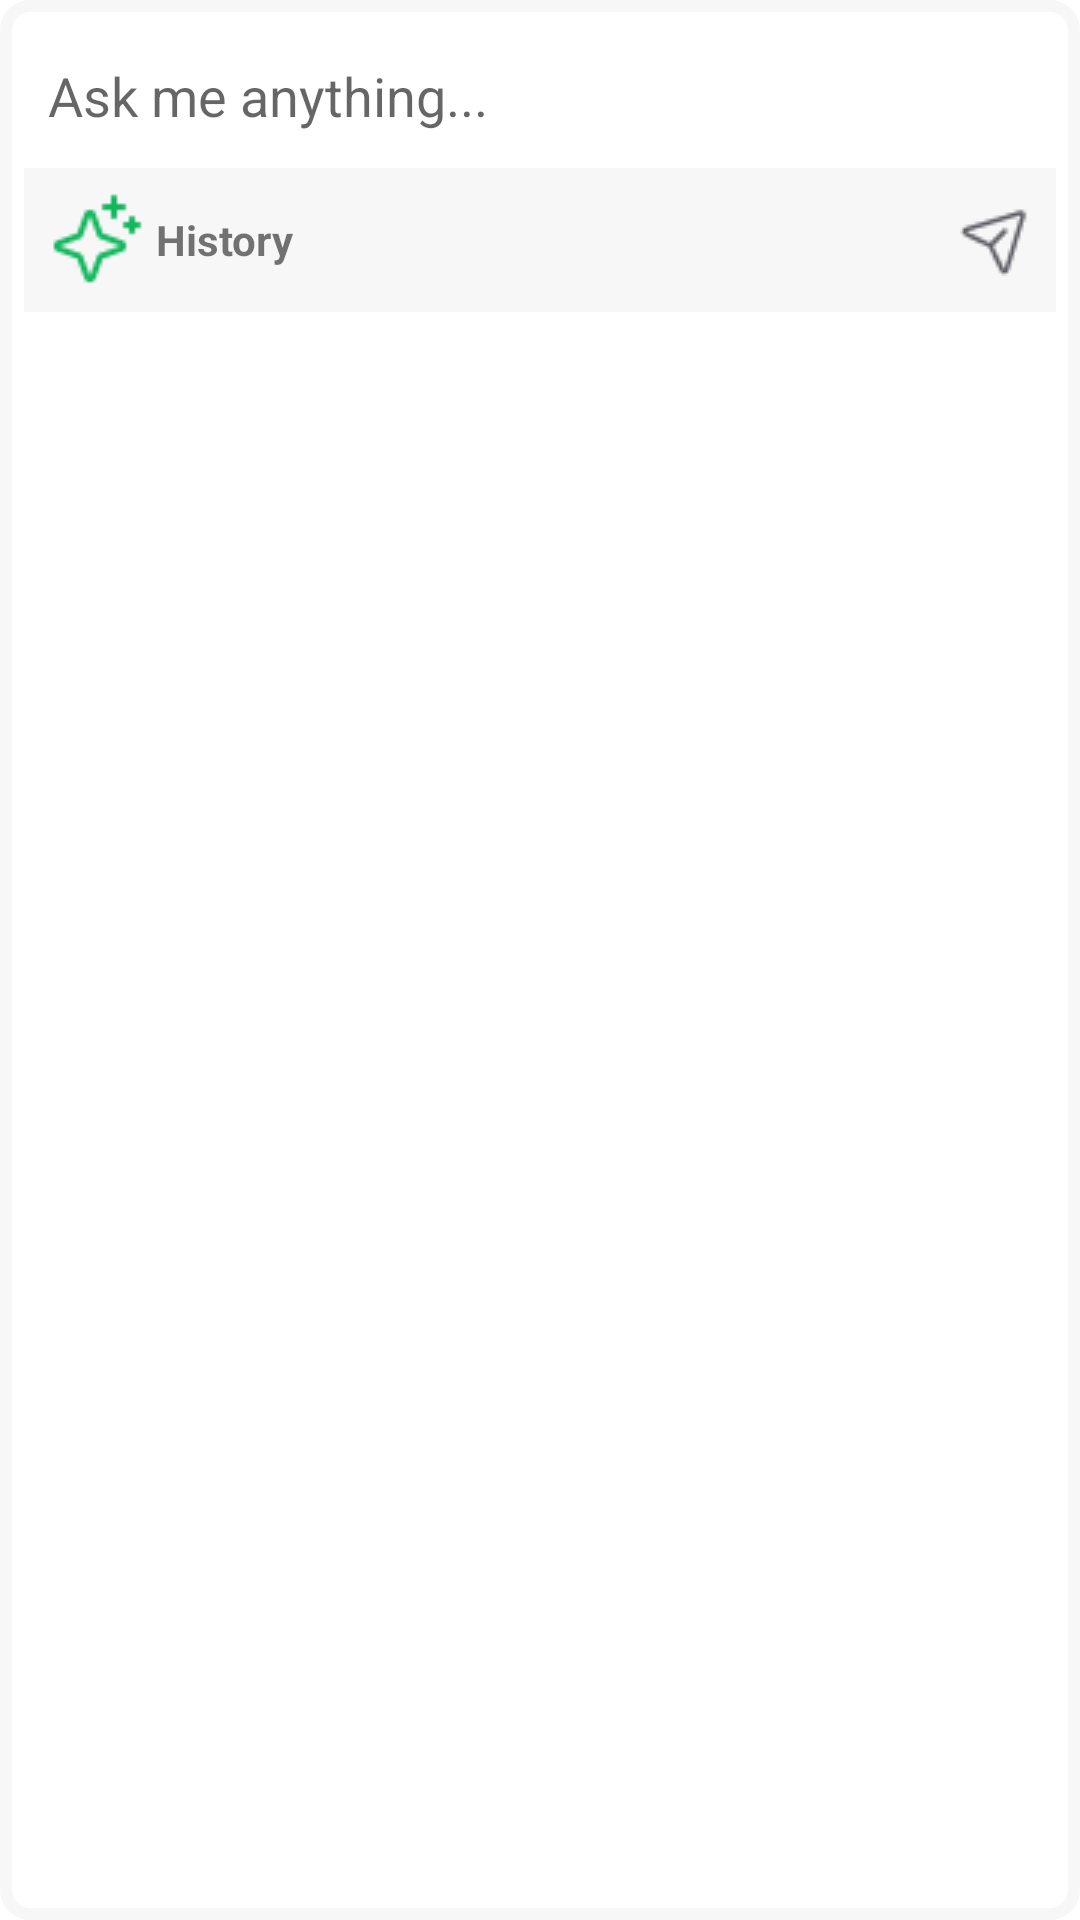

Icons on this 1080 x 1920 Android screen, each with the point to tap as [x,y]:
Tap this button to submit your query: [993,242]
